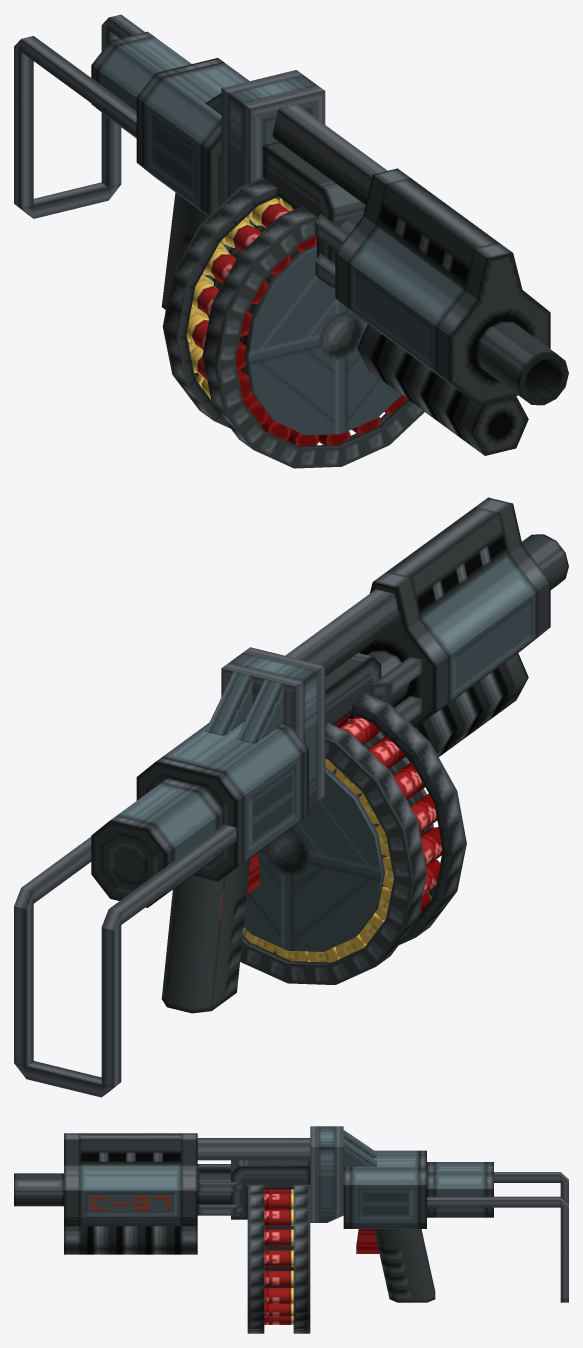
File: shredder_orig.obj
The picture shows the model from 3 angles, top to bottom: view 1: azimuth 30°, elevation 25°; view 2: azimuth 150°, elevation 25°; view 3: azimuth 270°, elevation 25°; orthographic projection. The views are drawn at different scales.
Parts seen in each view (by area): view 1: Gun, Magazine, Shells; view 2: Gun, Magazine, Shells; view 3: Gun, Magazine, Shells.
Boxes of the visible parts, left/top/right/bottom form: Gun: left=14, top=14, right=568, bottom=455; Magazine: left=162, top=177, right=424, bottom=468; Shells: left=186, top=196, right=407, bottom=445; Gun: left=14, top=497, right=568, bottom=1097; Magazine: left=240, top=693, right=466, bottom=984; Shells: left=243, top=713, right=442, bottom=962; Gun: left=14, top=1126, right=568, bottom=1302; Magazine: left=247, top=1184, right=310, bottom=1333; Shells: left=264, top=1189, right=293, bottom=1324.
Bounding box in the file's own units: 5 × 6.25 × 16.62.
